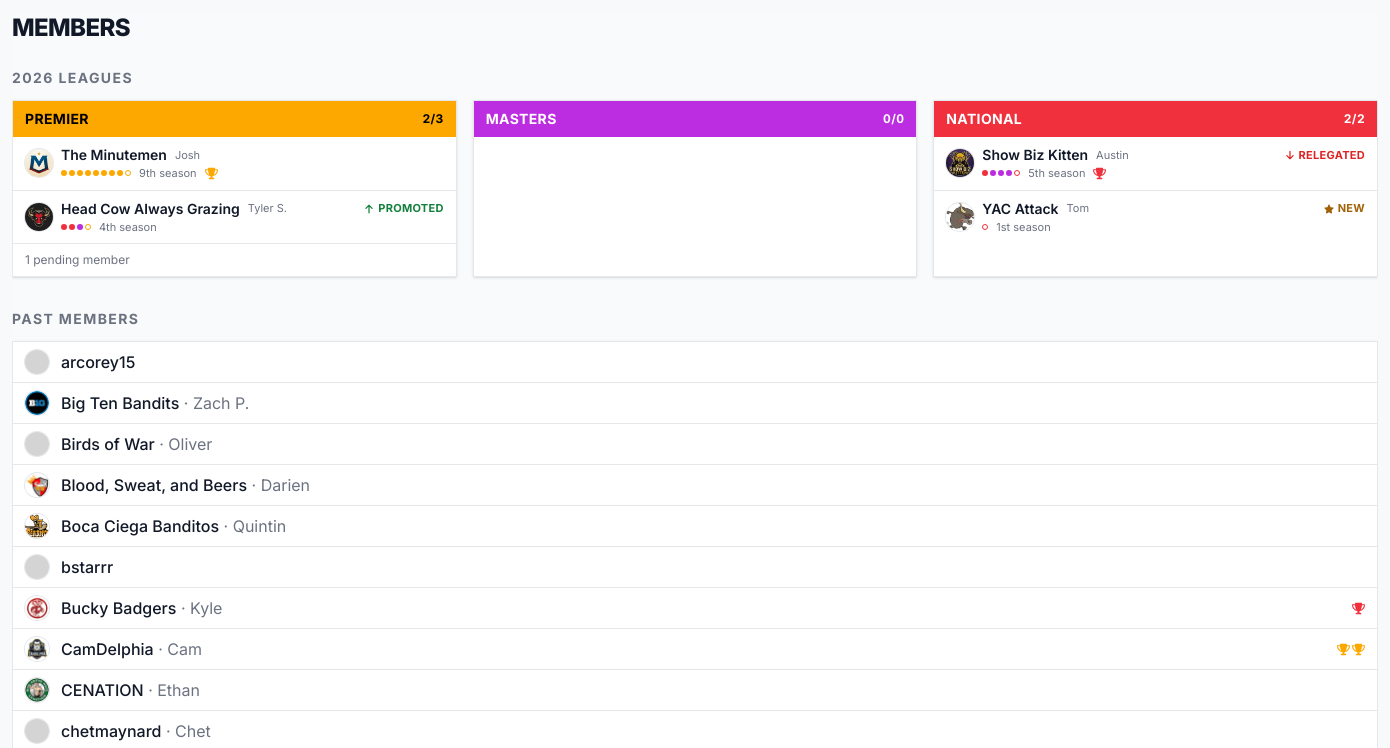
Test: lists the season's leagues with how each member got there, and opens a member
Expected: the heading "2026 Leagues" is shown, [12,69,133,86]
Expected: the text "Head Cow Always Grazing" is shown, [61,198,240,218]
Click the link "The Minutemen Josh 9th season" at (121, 163), box [25,146,218,180]
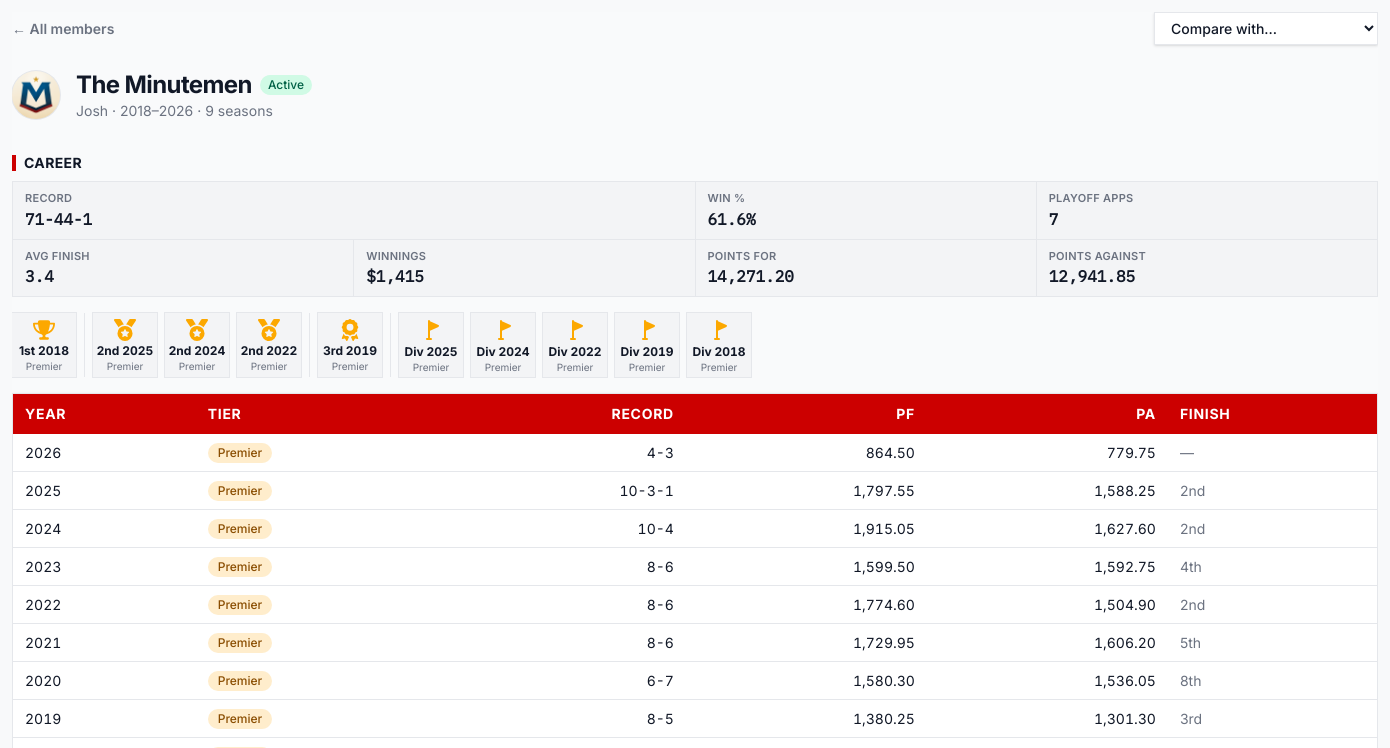
Now the heading "The Minutemen" is shown, box [76,69,252,101]
